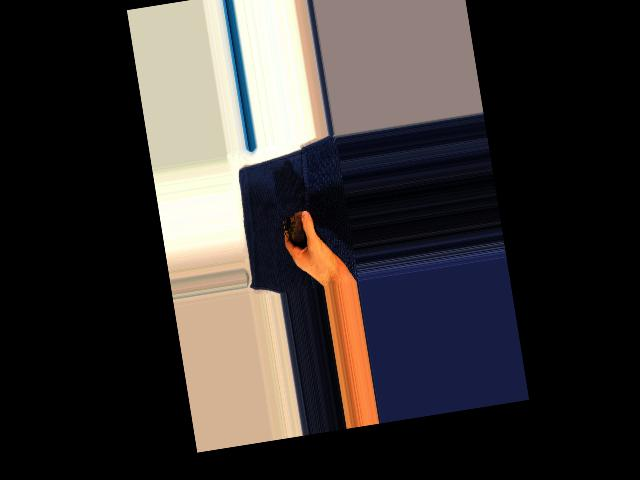beet: (281, 206, 330, 249)
